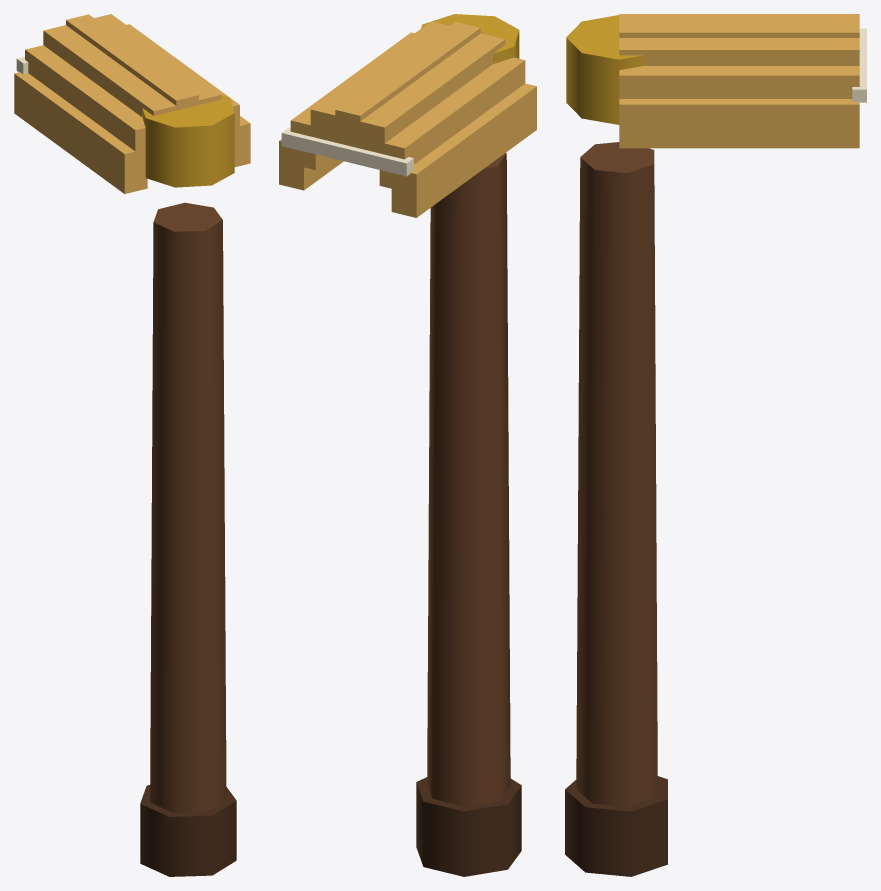
Rendered from tool_gouge.glb.
3 renders of one model, left to right at view 1: azimuth 30°, elevation 25°; view 2: azimuth 150°, elevation 25°; view 3: azimuth 270°, elevation 25°, orthographic. The views are drawn at different scales.
Visible parts, largest first — view 1: _MeshInstance3D_890, _MeshInstance3D_892, _MeshInstance3D_893, _MeshInstance3D_891, _MeshInstance3D_894, _MeshInstance3D_895, _MeshInstance3D_896, _MeshInstance3D_897, _MeshInstance3D_899, _MeshInstance3D_898; view 2: _MeshInstance3D_890, _MeshInstance3D_891, _MeshInstance3D_893, _MeshInstance3D_894, _MeshInstance3D_895, _MeshInstance3D_896, _MeshInstance3D_897, _MeshInstance3D_900, _MeshInstance3D_892, _MeshInstance3D_898, _MeshInstance3D_899; view 3: _MeshInstance3D_890, _MeshInstance3D_899, _MeshInstance3D_898, _MeshInstance3D_891, _MeshInstance3D_897, _MeshInstance3D_892, _MeshInstance3D_896, _MeshInstance3D_895, _MeshInstance3D_900.
Boxes of the visible parts, bbox=[...] form: _MeshInstance3D_890: bbox=[150, 202, 226, 812]; _MeshInstance3D_892: bbox=[142, 95, 234, 187]; _MeshInstance3D_893: bbox=[14, 72, 147, 193]; _MeshInstance3D_891: bbox=[140, 785, 236, 876]; _MeshInstance3D_894: bbox=[25, 45, 145, 169]; _MeshInstance3D_895: bbox=[43, 25, 176, 116]; _MeshInstance3D_896: bbox=[66, 14, 198, 110]; _MeshInstance3D_897: bbox=[94, 14, 221, 104]; _MeshInstance3D_899: bbox=[234, 116, 250, 166]; _MeshInstance3D_898: bbox=[127, 24, 239, 145]; _MeshInstance3D_890: bbox=[427, 153, 510, 806]; _MeshInstance3D_891: bbox=[416, 777, 521, 876]; _MeshInstance3D_893: bbox=[391, 83, 536, 217]; _MeshInstance3D_894: bbox=[379, 57, 525, 188]; _MeshInstance3D_895: bbox=[359, 33, 505, 153]; _MeshInstance3D_896: bbox=[335, 21, 480, 148]; _MeshInstance3D_897: bbox=[310, 21, 449, 142]; _MeshInstance3D_900: bbox=[281, 128, 413, 176]; _MeshInstance3D_892: bbox=[421, 14, 519, 63]; _MeshInstance3D_898: bbox=[290, 32, 414, 170]; _MeshInstance3D_899: bbox=[279, 139, 343, 190]; _MeshInstance3D_890: bbox=[576, 142, 657, 806]; _MeshInstance3D_899: bbox=[619, 99, 859, 148]; _MeshInstance3D_898: bbox=[619, 66, 859, 98]; _MeshInstance3D_891: bbox=[565, 776, 667, 876]; _MeshInstance3D_897: bbox=[619, 38, 859, 65]; _MeshInstance3D_892: bbox=[566, 15, 643, 124]; _MeshInstance3D_896: bbox=[619, 20, 859, 37]; _MeshInstance3D_895: bbox=[619, 14, 859, 20]; _MeshInstance3D_900: bbox=[852, 28, 866, 102].
Bounding box in the file's own units: 0.066 × 0.38 × 0.1255.
